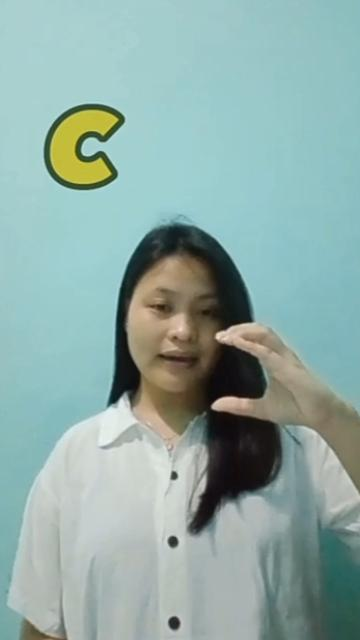C: (209, 320, 340, 432)
